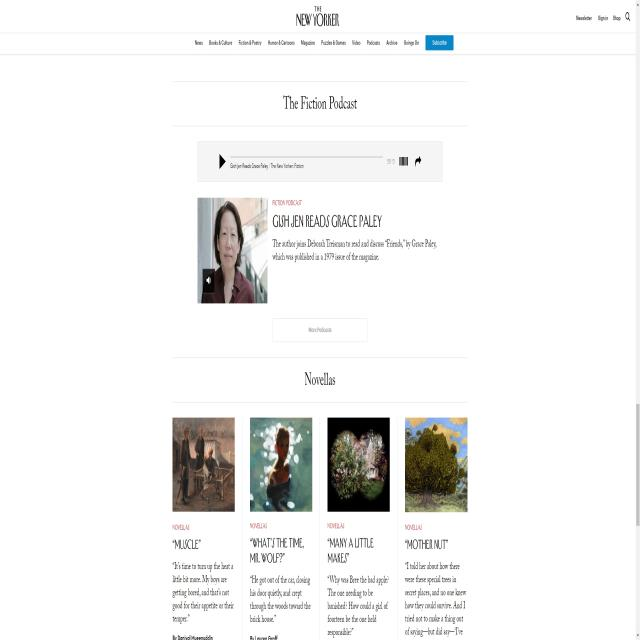content: (272, 238, 443, 266)
control-bar: (196, 141, 442, 181)
menu-bar: (574, 6, 634, 27)
tab-bar: (187, 34, 456, 52)
